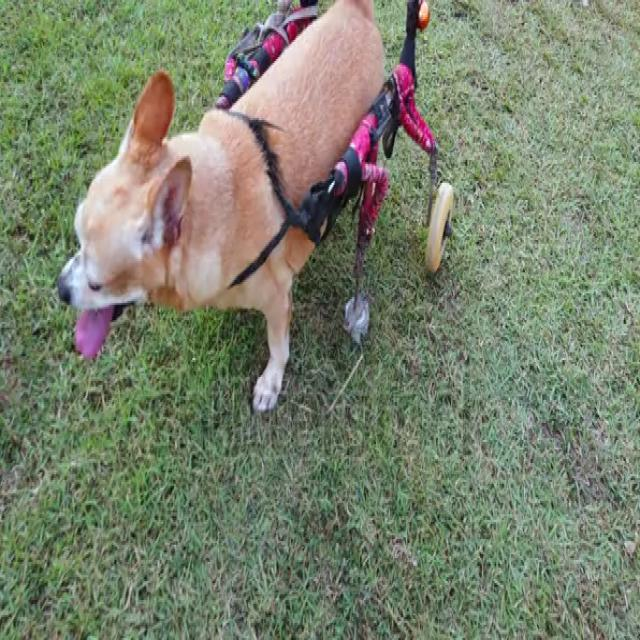injured-animals: (52, 2, 456, 419)
